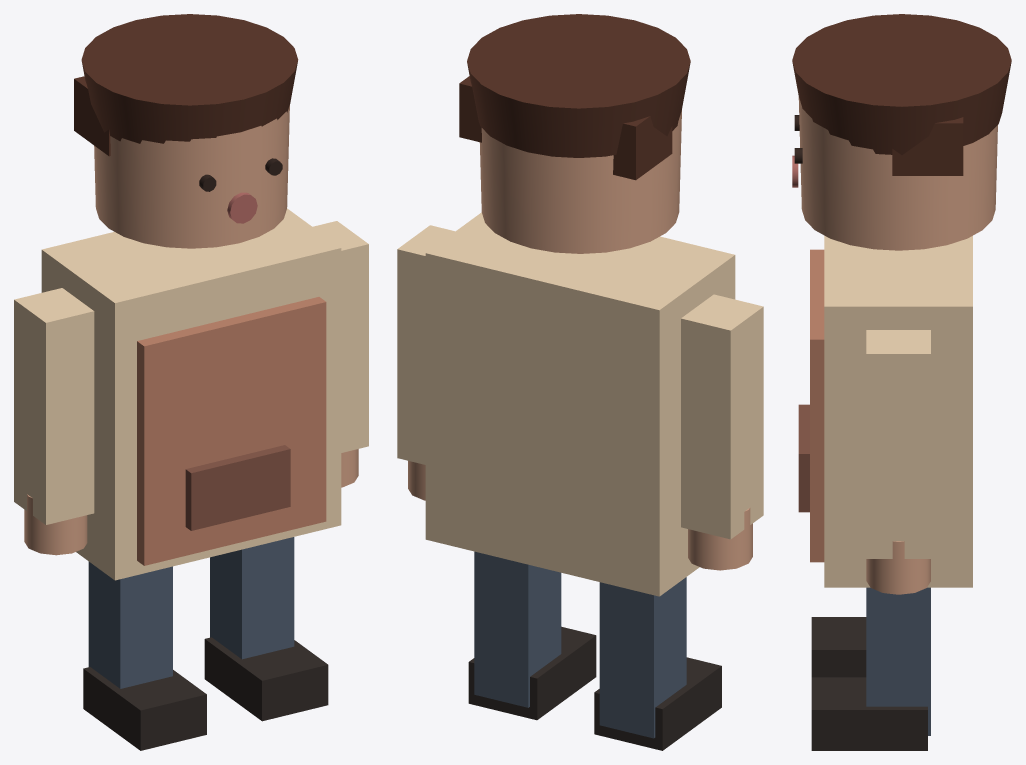
File: customer-01.glb
The picture shows the model from 3 angles, left to right: view 1: azimuth 30°, elevation 25°; view 2: azimuth 150°, elevation 25°; view 3: azimuth 270°, elevation 25°; orthographic projection. The views are drawn at different scales.
Visible parts, largest first — view 1: Shirt, Apron, Sleeve (×2), HairCap, Head, Leg (×2), Shoe (×2), ApronPocket, Hand (×2), HairFringe, Smile; view 2: Shirt, Sleeve (×2), HairCap, Leg (×2), Head, Shoe (×2), HairFringe, Hand (×2); view 3: Shirt, HairCap, Head, Sleeve, Shoe (×2), Leg, Apron, HairFringe, Hand, ApronPocket.
Part boxes in pixels (<box>): Shirt: <box>41,208,341,580</box>; Apron: <box>137,297,326,565</box>; Sleeve (×2): <box>14,221,368,524</box>; HairCap: <box>81,14,298,143</box>; Head: <box>94,105,289,248</box>; Leg (×2): <box>88,537,294,688</box>; Shoe (×2): <box>83,637,328,750</box>; ApronPocket: <box>185,445,290,530</box>; Hand (×2): <box>24,449,358,555</box>; HairFringe: <box>74,76,110,156</box>; Smile: <box>227,192,257,223</box>; Shirt: <box>425,212,735,596</box>; Sleeve (×2): <box>397,225,763,539</box>; HairCap: <box>467,14,690,157</box>; Leg (×2): <box>474,551,686,738</box>; Head: <box>479,110,681,253</box>; Shoe (×2): <box>468,626,721,750</box>; HairFringe: <box>459,76,672,180</box>; Hand (×2): <box>408,461,752,570</box>; Shirt: <box>824,235,972,587</box>; HairCap: <box>792,14,1011,154</box>; Head: <box>798,96,997,250</box>; Sleeve: <box>866,330,930,558</box>; Shoe (×2): <box>811,617,927,750</box>; Leg: <box>866,587,930,735</box>; Apron: <box>810,249,824,562</box>; HairFringe: <box>892,117,963,175</box>; Hand: <box>866,541,930,594</box>; ApronPocket: <box>798,404,809,512</box>.
Size of the model in its own units: 1.18 by 2.2 by 0.68.
